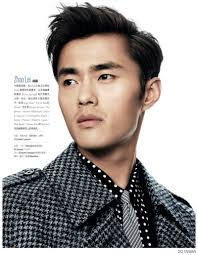asian_male: (49, 18, 152, 148)
